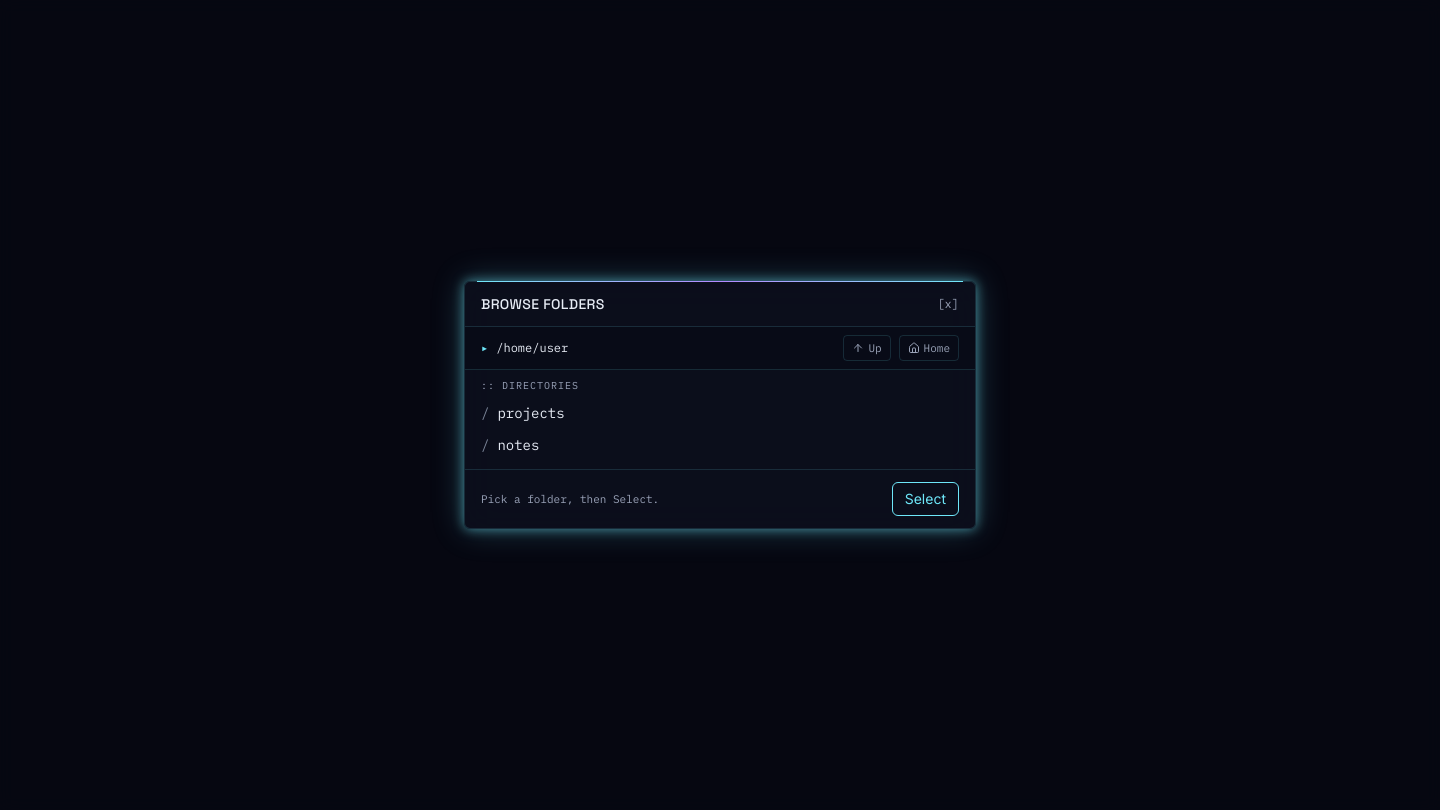
Test case: FolderBrowserModal › navigates into a clicked directory: refetches with that path and updates the readout
Expected: the text with test id "browse-current-path" reads "/home/user", [496,340,568,355]
Click the button "/ projects": (531, 413) [473,397,967,429]
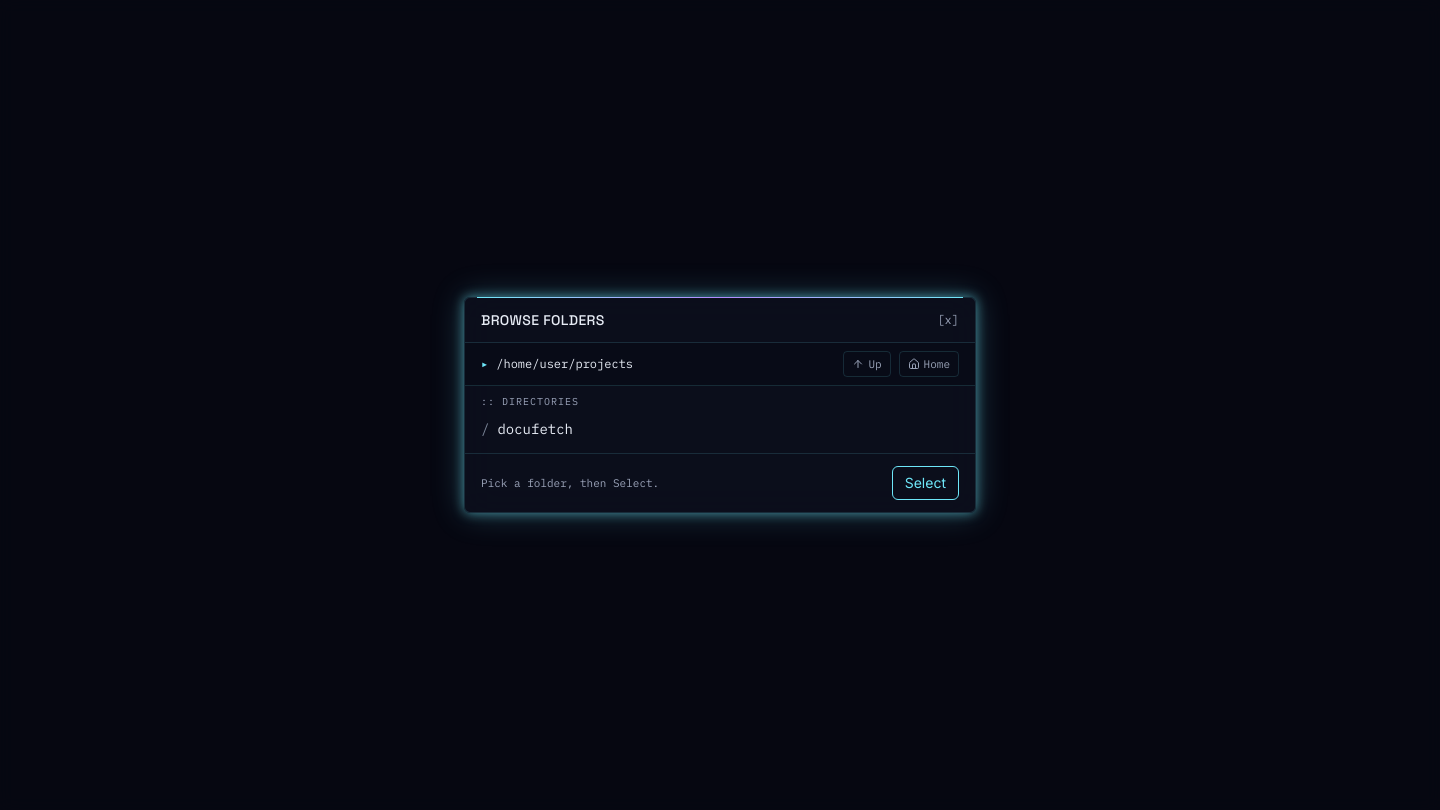
Expected: the text with test id "browse-current-path" reads "/home/user/projects", [496,356,633,371]
Expected: the button "/ docufetch" is shown, [473,413,967,445]
